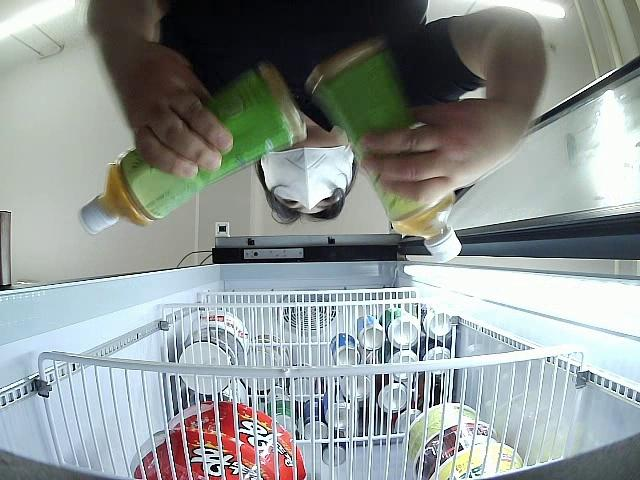00_hand: (109, 43, 233, 181), (364, 99, 501, 213)
19_17cha: (79, 67, 304, 230), (307, 40, 463, 267)
